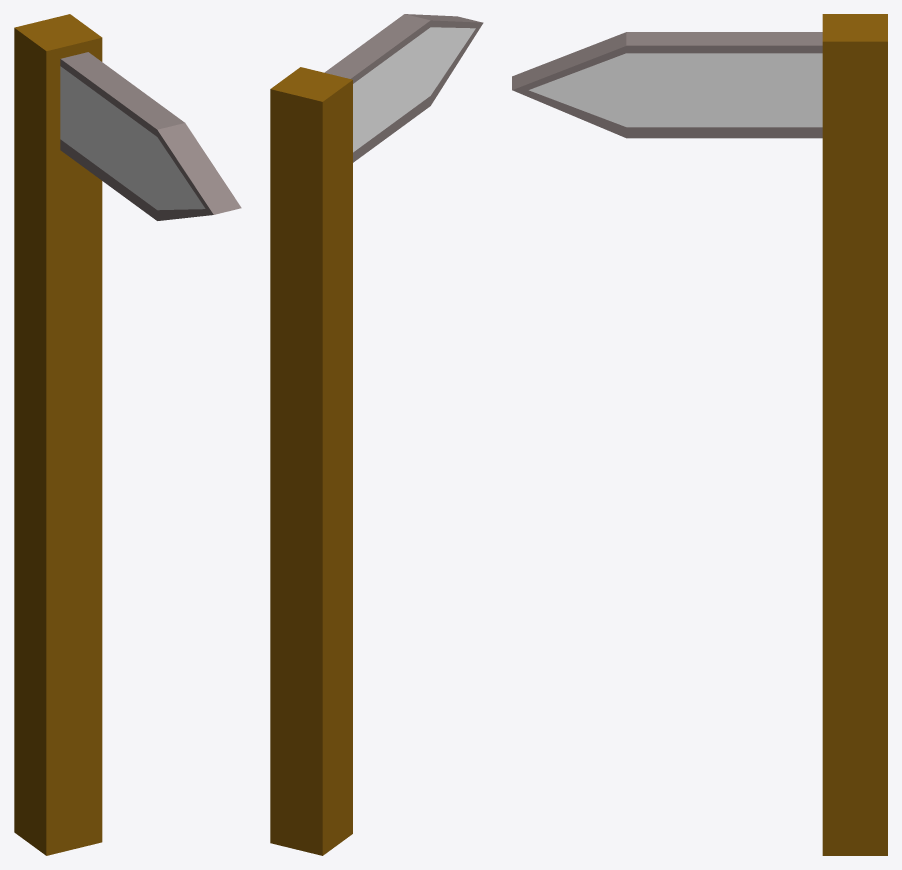
Rendered from obj_signpost_18_0.obj.
3 renders of one model, left to right at view 1: azimuth 30°, elevation 25°; view 2: azimuth 150°, elevation 25°; view 3: azimuth 270°, elevation 25°, orthographic. The views are drawn at different scales.
Bounding box in the file's own units: 0.125 × 1.72 × 0.7188.
